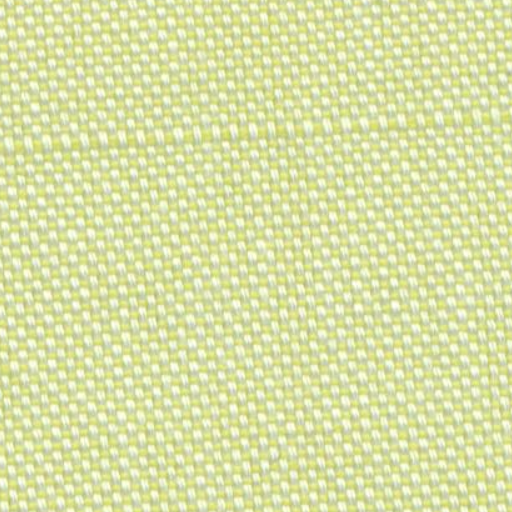TuoSha: (16, 98, 501, 170)
